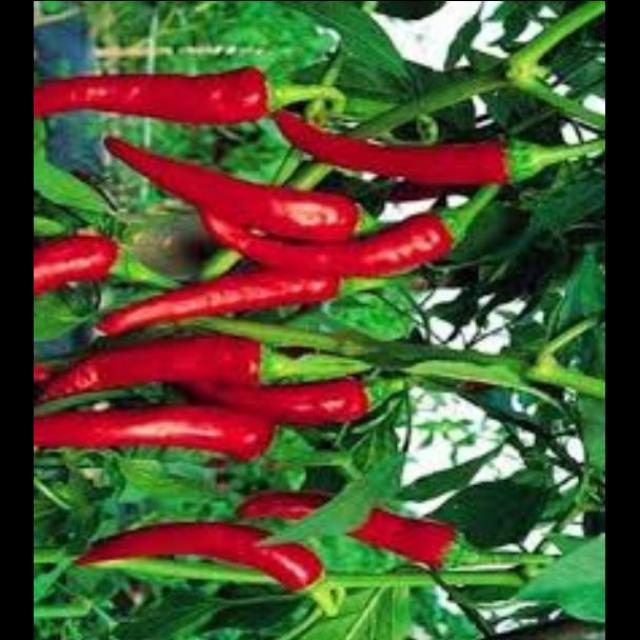hot pepper: (101, 130, 371, 258), (281, 88, 563, 204), (242, 488, 510, 590), (76, 498, 324, 604), (172, 213, 504, 282), (88, 272, 367, 345), (34, 49, 273, 132), (35, 338, 296, 406), (34, 401, 278, 466), (34, 219, 148, 303)
